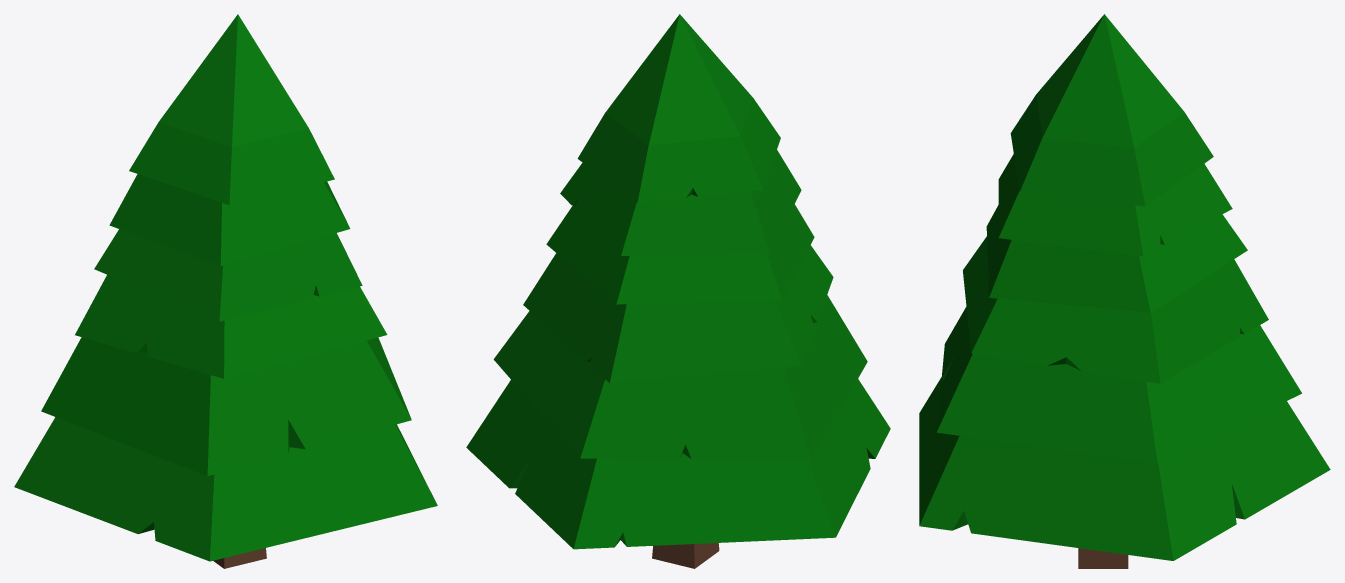
The model's file is PINETREE_V3.fbx.
3 renders of one model, left to right at view 1: azimuth 30°, elevation 25°; view 2: azimuth 150°, elevation 25°; view 3: azimuth 270°, elevation 25°, orthographic.
Parts seen in each view (by area): view 1: Circle.004; view 2: Circle.004; view 3: Circle.004.
Part boxes in pixels (left/top/right/bottom): Circle.004: left=14, top=14, right=437, bottom=568; Circle.004: left=466, top=14, right=890, bottom=568; Circle.004: left=919, top=14, right=1330, bottom=568.
Bounding box in the file's own units: 284 × 397 × 270.
